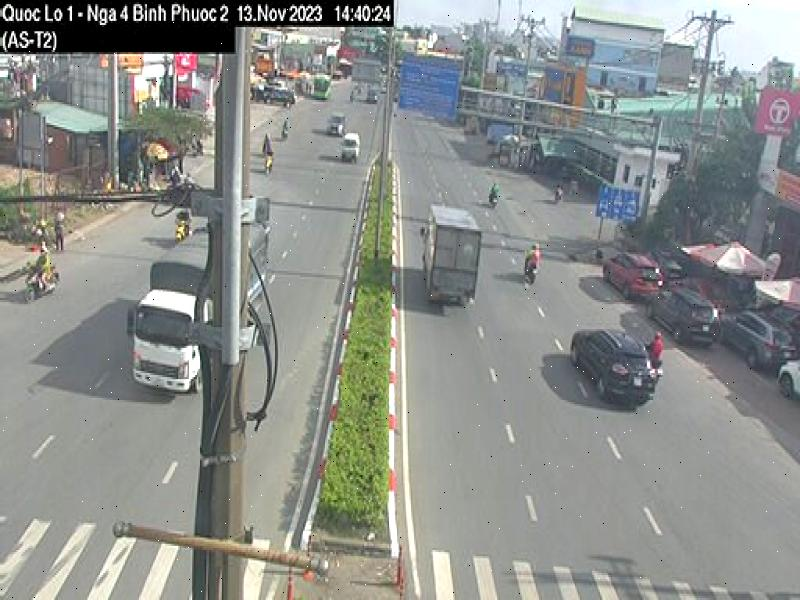truck: (129, 212, 271, 398)
